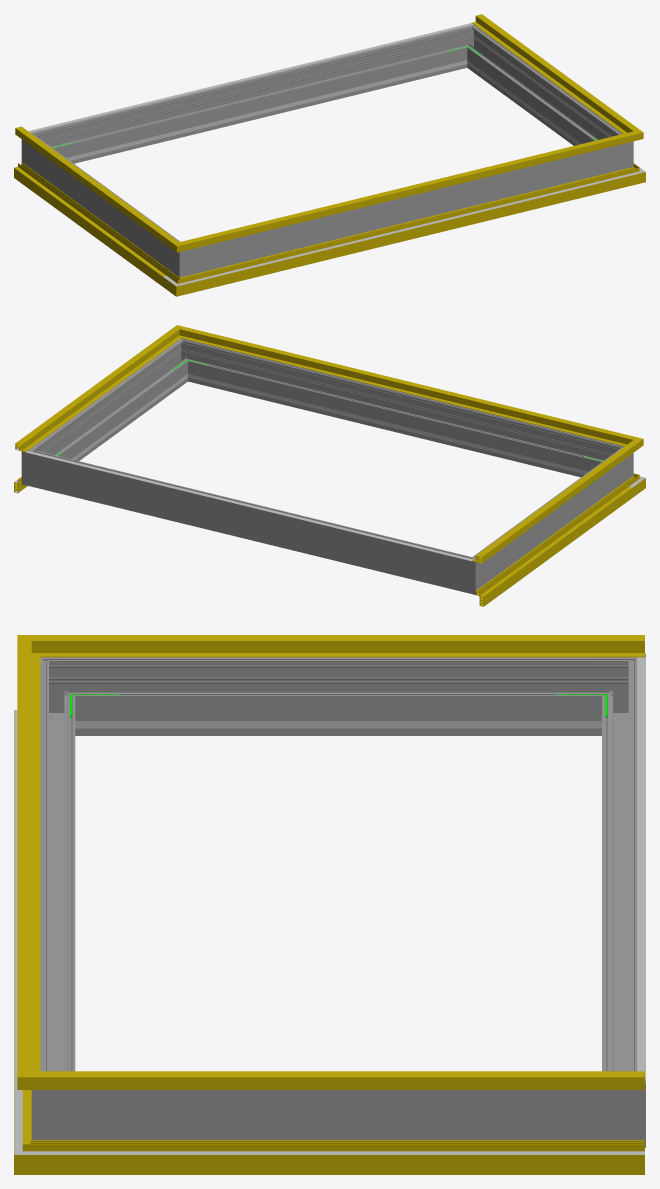
The picture shows the model from 3 angles, top to bottom: view 1: azimuth 30°, elevation 25°; view 2: azimuth 150°, elevation 25°; view 3: azimuth 270°, elevation 25°; orthographic projection. The views are drawn at different scales.
Parts seen in each view (by area): view 1: 3DGeom-276, 3DGeom-298, 3DGeom-90, 3DGeom-297, 3DGeom-123, 3DGeom-268, 3DGeom-85, 3DGeom-128, 3DGeom-118, 3DGeom-244, 3DGeom-220, 3DGeom-100 (+8 smaller); view 2: 3DGeom-298, 3DGeom-276, 3DGeom-297, 3DGeom-123, 3DGeom-268, 3DGeom-85, 3DGeom-128, 3DGeom-118, 3DGeom-239, 3DGeom-220, 3DGeom-278, 3DGeom-284 (+5 smaller); view 3: 3DGeom-268, 3DGeom-297, 3DGeom-97, 3DGeom-118, 3DGeom-276, 3DGeom-298, 3DGeom-128, 3DGeom-123, 3DGeom-220, 3DGeom-232, 3DGeom-290, 3DGeom-284 (+8 smaller).
Part boxes in pixels (bbox=[...]): 3DGeom-276: bbox=[47, 29, 463, 163]; 3DGeom-298: bbox=[203, 147, 610, 271]; 3DGeom-90: bbox=[195, 170, 622, 290]; 3DGeom-297: bbox=[469, 33, 616, 145]; 3DGeom-123: bbox=[197, 135, 620, 246]; 3DGeom-268: bbox=[35, 141, 173, 267]; 3DGeom-85: bbox=[14, 162, 170, 286]; 3DGeom-128: bbox=[472, 14, 629, 131]; 3DGeom-118: bbox=[15, 126, 169, 242]; 3DGeom-244: bbox=[75, 65, 444, 159]; 3DGeom-220: bbox=[28, 23, 473, 132]; 3DGeom-100: bbox=[198, 176, 621, 280]; 3DGeom-298: bbox=[192, 343, 607, 477]; 3DGeom-276: bbox=[45, 454, 455, 589]; 3DGeom-297: bbox=[39, 346, 185, 460]; 3DGeom-123: bbox=[194, 330, 619, 443]; 3DGeom-268: bbox=[481, 454, 619, 580]; 3DGeom-85: bbox=[475, 482, 632, 606]; 3DGeom-128: bbox=[15, 335, 173, 452]; 3DGeom-118: bbox=[472, 447, 629, 563]; 3DGeom-239: bbox=[210, 379, 579, 473]; 3DGeom-220: bbox=[26, 451, 472, 561]; 3DGeom-278: bbox=[452, 550, 488, 594]; 3DGeom-284: bbox=[21, 442, 48, 489]; 3DGeom-268: bbox=[84, 657, 593, 735]; 3DGeom-297: bbox=[84, 1090, 593, 1140]; 3DGeom-97: bbox=[66, 1140, 644, 1174]; 3DGeom-118: bbox=[70, 635, 644, 657]; 3DGeom-276: bbox=[602, 676, 637, 1071]; 3DGeom-298: bbox=[40, 676, 75, 1071]; 3DGeom-128: bbox=[70, 1071, 644, 1089]; 3DGeom-123: bbox=[17, 657, 40, 1066]; 3DGeom-220: bbox=[637, 657, 645, 1080]; 3DGeom-232: bbox=[126, 721, 551, 728]; 3DGeom-290: bbox=[31, 1061, 84, 1140]; 3DGeom-284: bbox=[593, 1061, 645, 1147].
Size of the model in its own units: 3.05 by 0.3069 by 1.83.
